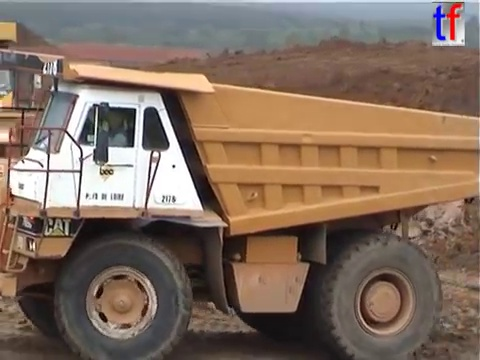truck: (1, 42, 480, 360), (1, 18, 110, 276)
